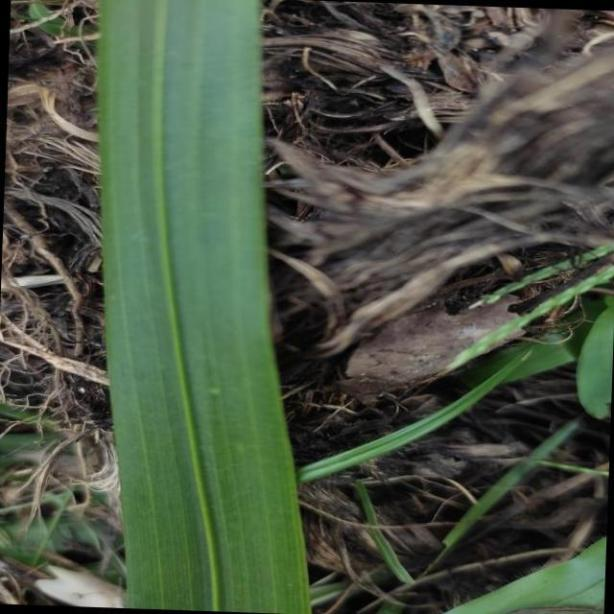Healthy: (91, 0, 312, 614)
